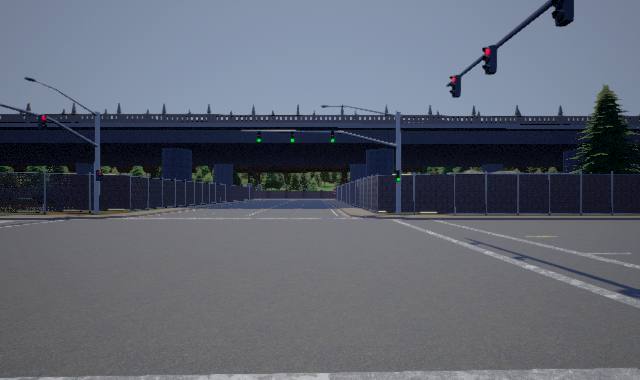traffic_light: (551, 1, 574, 27), (482, 45, 497, 75), (449, 75, 461, 98), (38, 115, 47, 130), (96, 170, 103, 181), (396, 170, 400, 182), (257, 131, 261, 143), (331, 131, 334, 143), (291, 131, 294, 143)
